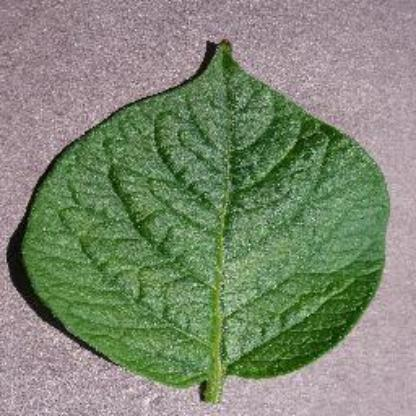Healthy-plant: (22, 36, 394, 408)
